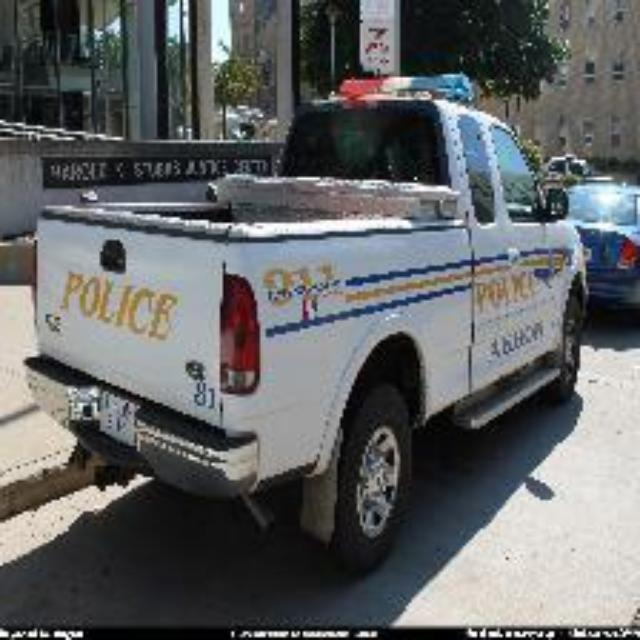emergency: (73, 34, 555, 514)
